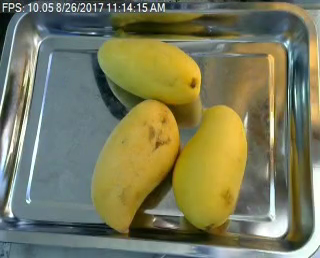Mango: (88, 96, 179, 235), (169, 101, 252, 236), (93, 35, 213, 103)
